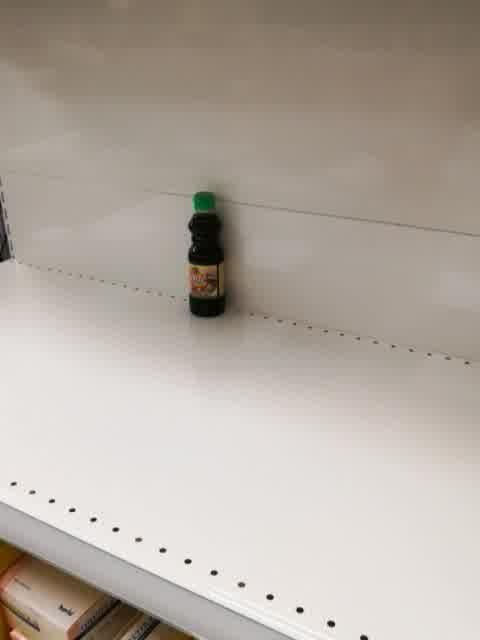cookingoil: (186, 191, 229, 318)
